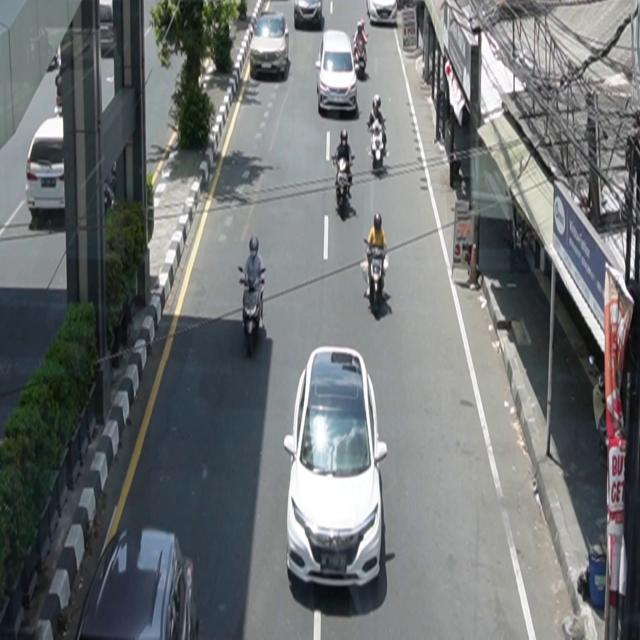car: (284, 346, 389, 591), (76, 526, 201, 640), (316, 30, 358, 115), (250, 12, 290, 81), (295, 1, 324, 31), (366, 1, 398, 26)
